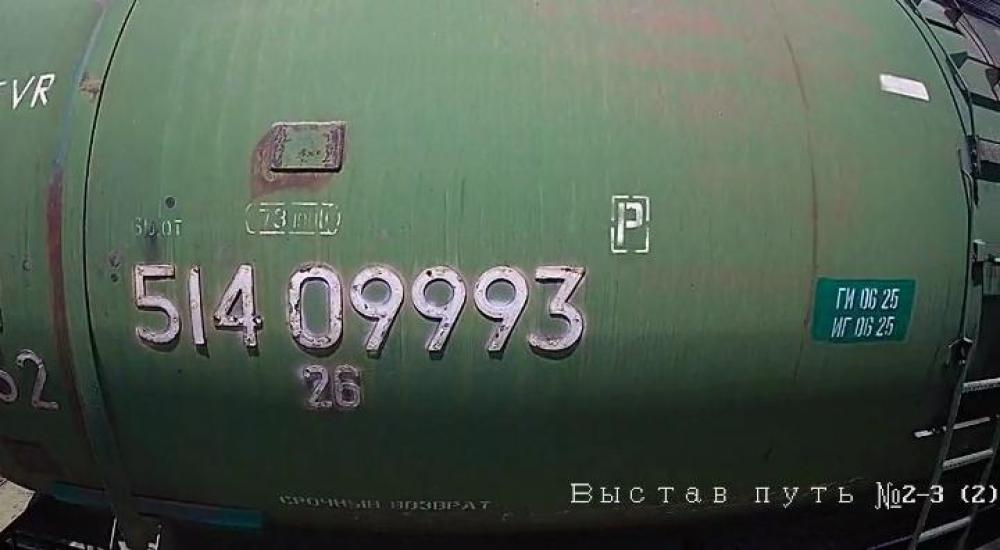Wagon-number: (125, 251, 593, 359)
